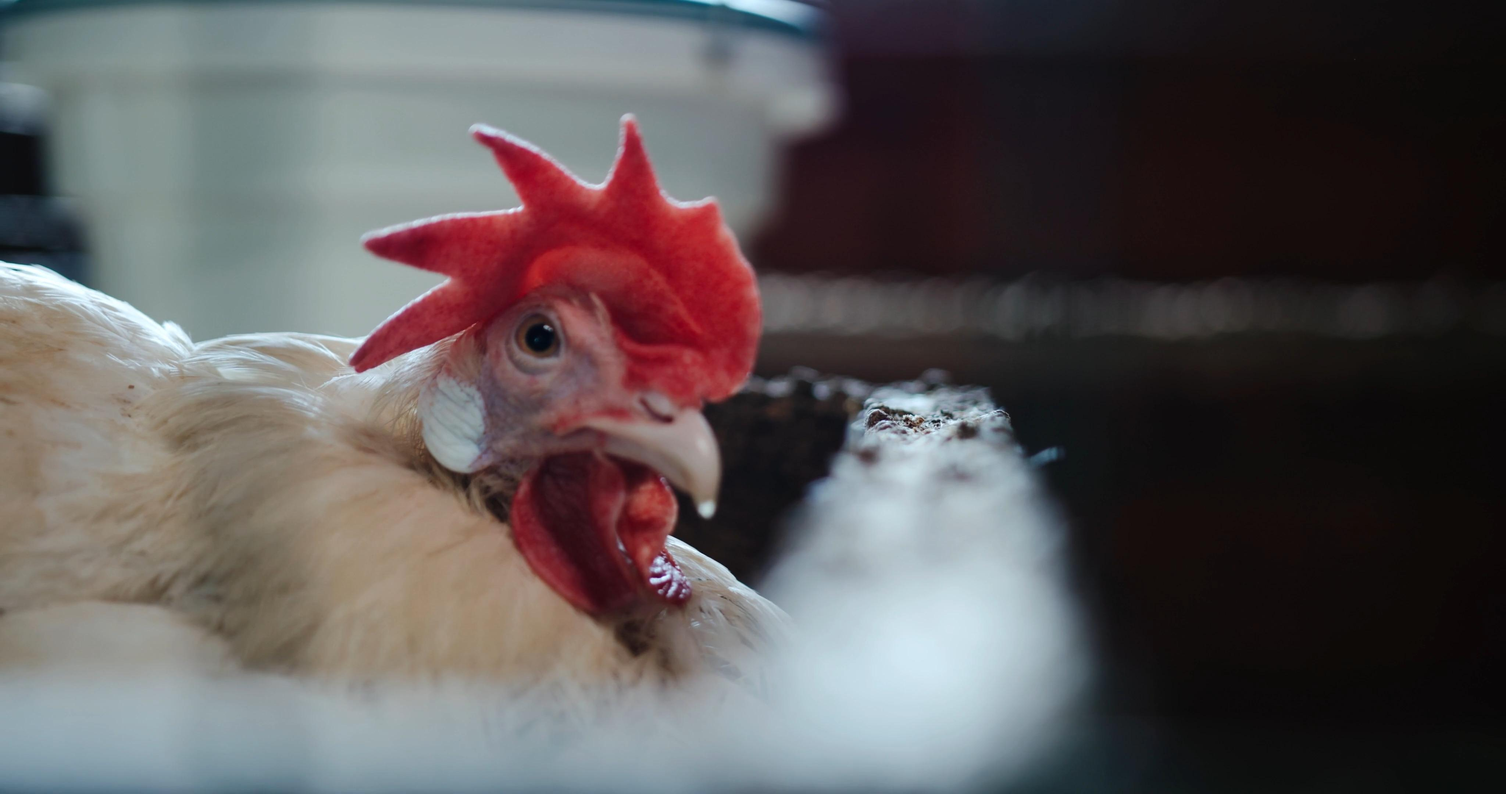Normal: (56, 120, 768, 671)
